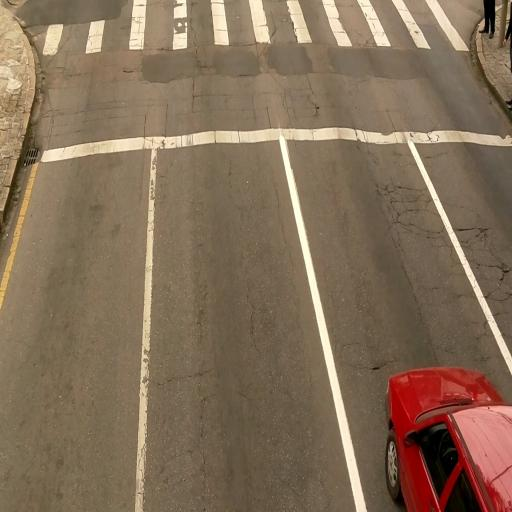car: (380, 362, 509, 510)
